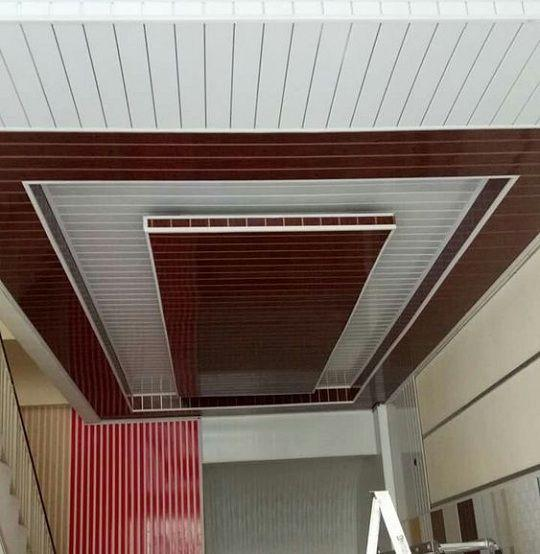PVC: (0, 176, 540, 417), (0, 0, 540, 135)
